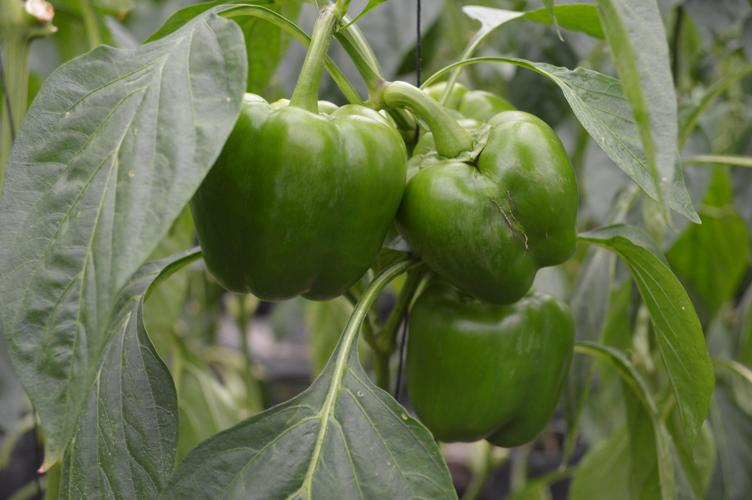BellPepper: (173, 107, 413, 347), (400, 114, 589, 303), (398, 303, 566, 471)
